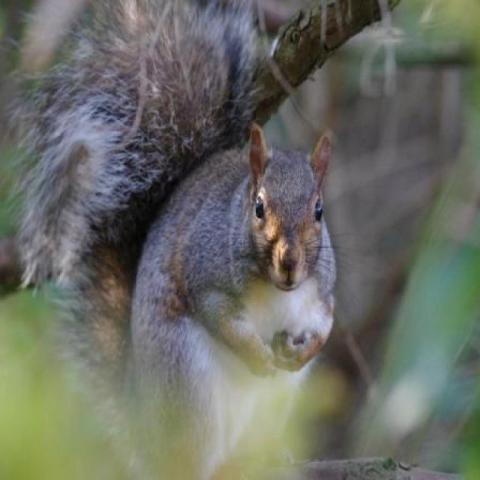small_animal: (37, 1, 343, 478)
